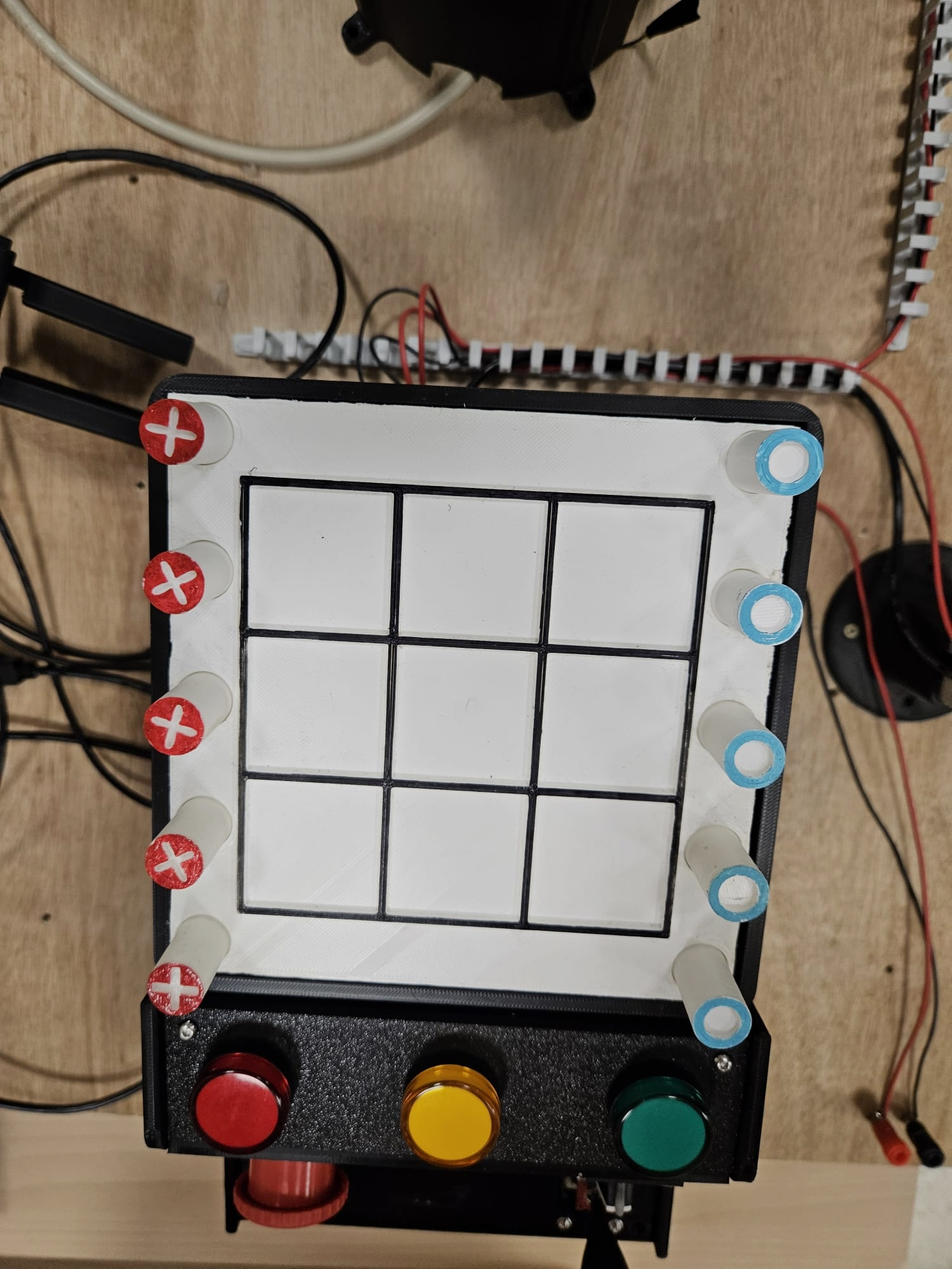blue circle: (755, 428, 823, 496), (738, 582, 803, 645), (724, 728, 784, 789), (708, 865, 768, 922), (692, 996, 751, 1049)
board: (142, 392, 821, 1041)
cells: (549, 502, 703, 650), (399, 495, 546, 641), (247, 485, 392, 633), (538, 653, 688, 794), (392, 646, 536, 784), (245, 637, 387, 775), (528, 796, 673, 930), (387, 788, 527, 921), (245, 779, 381, 912)
grid: (239, 477, 712, 936)
red cross: (139, 398, 204, 464), (143, 551, 204, 614), (143, 696, 204, 756), (145, 833, 203, 889), (147, 964, 204, 1016)
